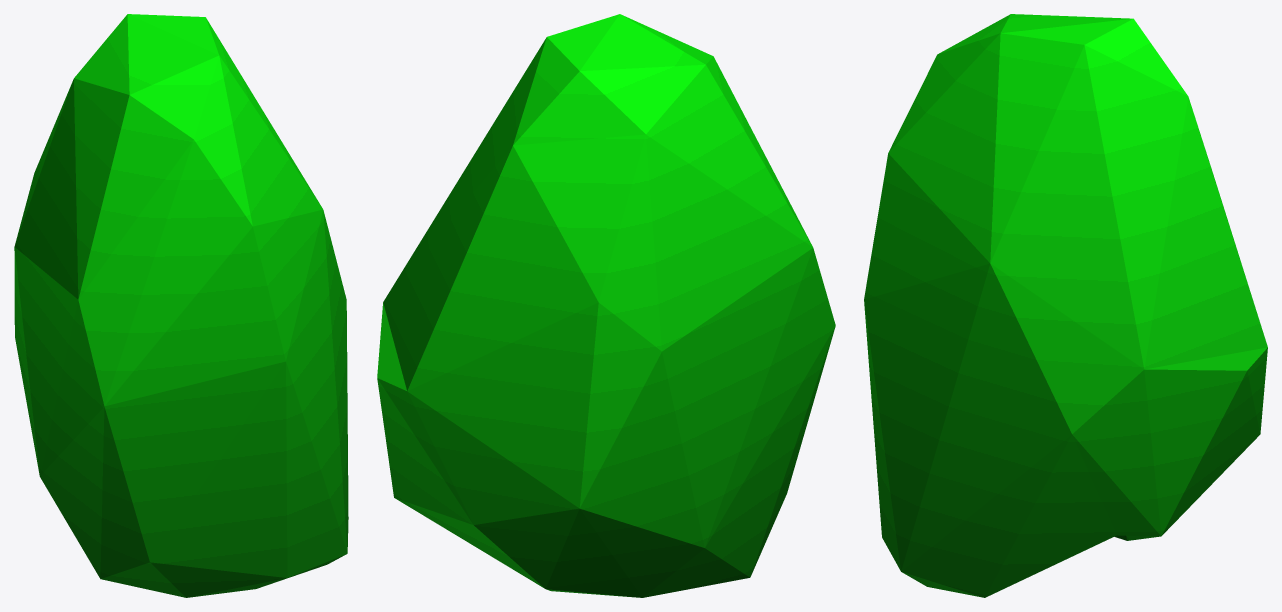
The model's file is Prefab_Foliage_Tree_Birch_Leaves_E.glb.
3 renders of one model, left to right at view 1: azimuth 30°, elevation 25°; view 2: azimuth 150°, elevation 25°; view 3: azimuth 270°, elevation 25°, orthographic. The views are drawn at different scales.
Visible parts, largest first — view 1: Foliage_Birch_C.004; view 2: Foliage_Birch_C.004; view 3: Foliage_Birch_C.004.
Part boxes in pixels (left/top/right/bottom): Foliage_Birch_C.004: left=14, top=14, right=348, bottom=597; Foliage_Birch_C.004: left=377, top=14, right=835, bottom=597; Foliage_Birch_C.004: left=864, top=14, right=1267, bottom=597.
Bounding box in the file's own units: 3.56 × 5.4 × 3.74.
1 material, 1 textured.
